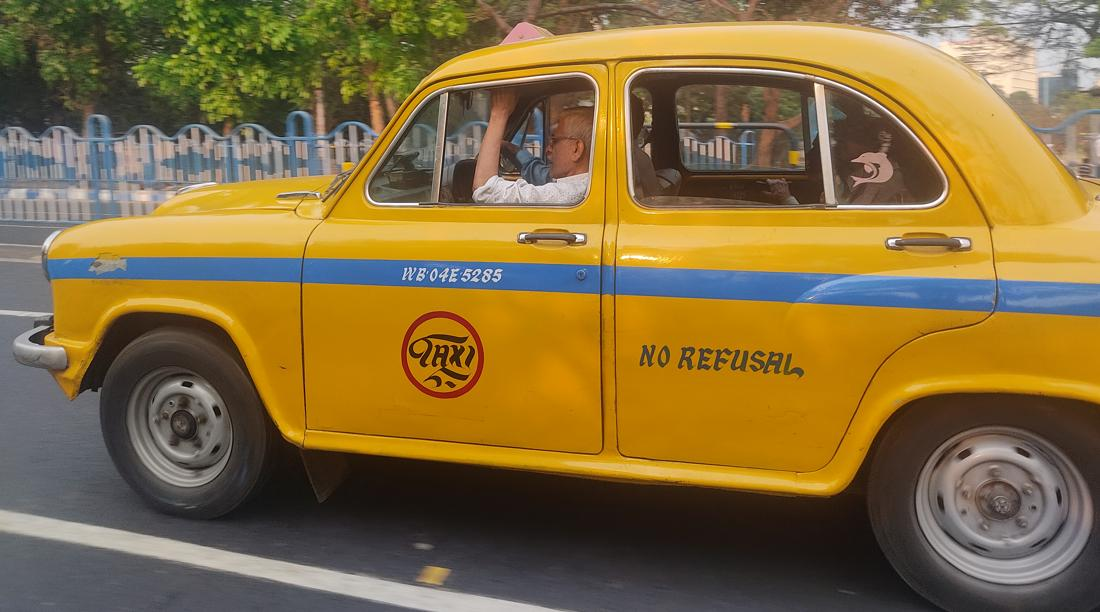Car: (31, 6, 1100, 590)
